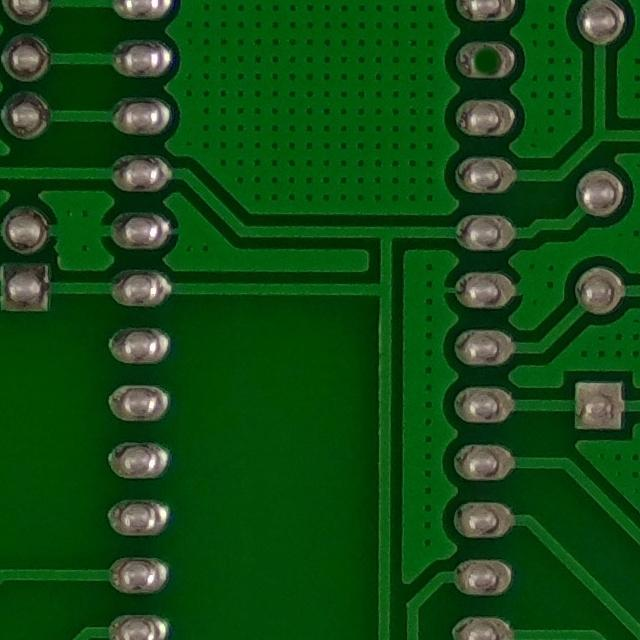missing_hole: (462, 42, 515, 80)
